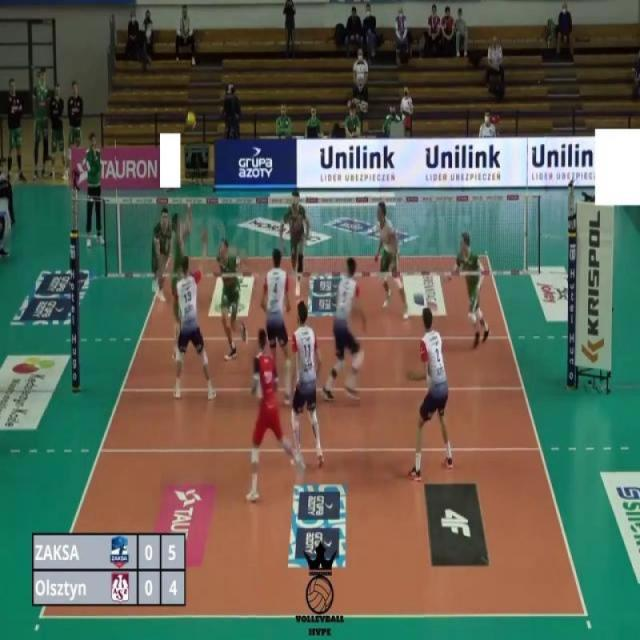volleyball: (186, 108, 197, 132)
